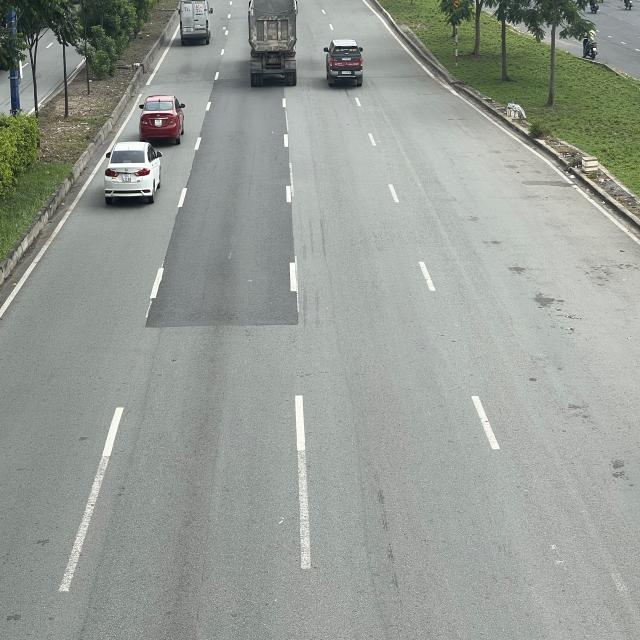car: (105, 138, 163, 202), (139, 91, 184, 142), (323, 38, 366, 82)
container: (248, 0, 297, 85)
van: (177, 0, 215, 45)
